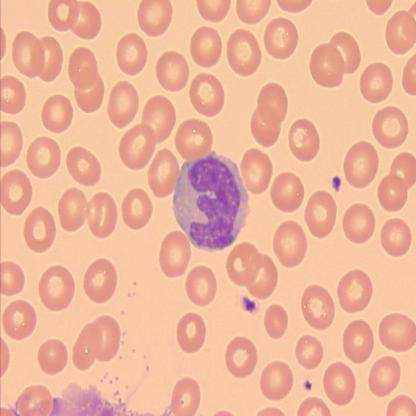Monocyte: (171, 147, 251, 254)
